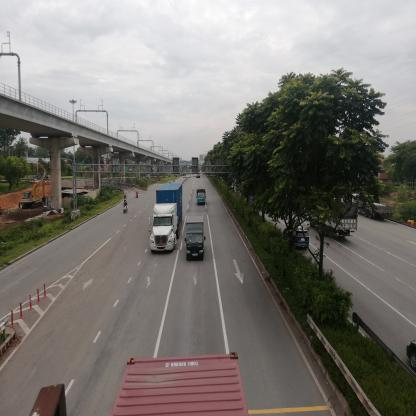car: (285, 227, 311, 248)
container: (149, 185, 184, 251)
motorbike: (125, 204, 130, 214), (136, 191, 140, 199), (125, 195, 129, 201)
truck: (188, 217, 204, 262), (198, 188, 206, 206)
